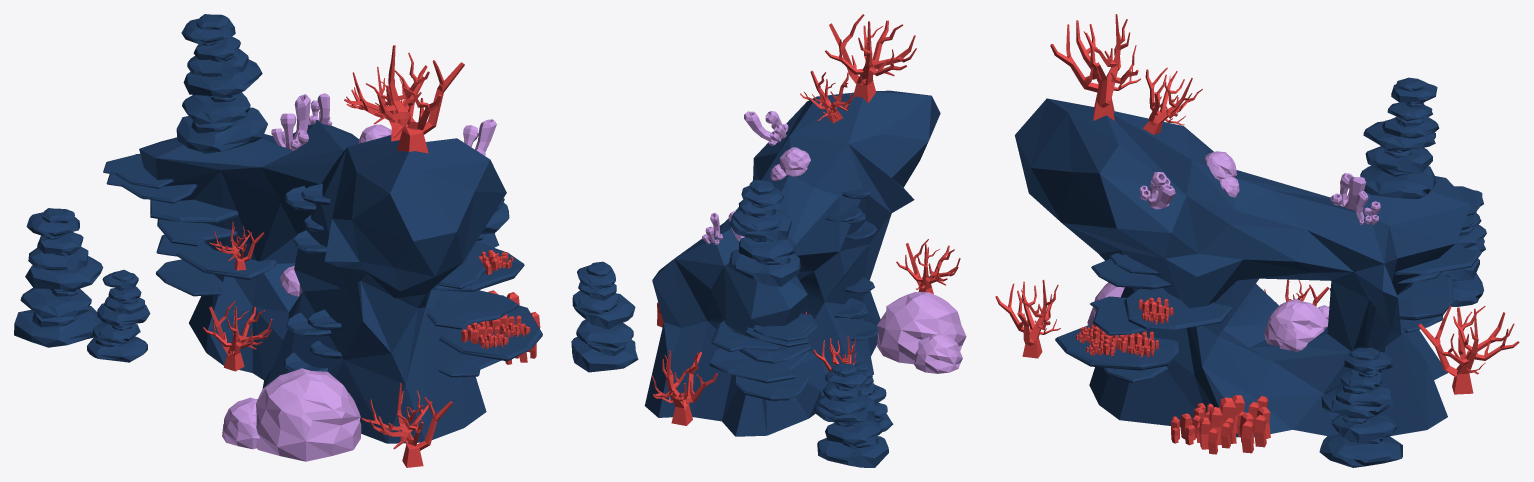
The model's file is environmentRotspartijV1.fbx.
3 renders of one model, left to right at view 1: azimuth 30°, elevation 25°; view 2: azimuth 150°, elevation 25°; view 3: azimuth 270°, elevation 25°, orthographic. The views are drawn at different scales.
Parts seen in each view (by area): view 1: pCube344, pCube361, pCube390, pSphere2, pCube391, pCube359, pCube363, pCube369, pCube362, pCube393, pCube371, pCube388 (+17 smaller); view 2: pCube344, pCube382, pCube361, pCube390, pSphere2, pCube359, pCube369, pCube387, pSphere3, pCube368, pCube393, pCube371 (+8 smaller); view 3: pCube344, pCube382, pCube361, pCube383, pCube359, pCube387, pCube364, pSphere5, pCube362, pCube369, pCube390, pCube393 (+13 smaller).
Part boxes in pixels (x1,y1,x2,y2): pCube344: [139, 120, 506, 443]; pCube361: [176, 14, 267, 153]; pCube390: [14, 208, 103, 347]; pSphere2: [256, 368, 361, 461]; pCube391: [87, 269, 150, 362]; pCube359: [344, 45, 464, 153]; pCube363: [427, 290, 518, 329]; pCube369: [156, 234, 277, 280]; pCube362: [439, 305, 542, 361]; pCube393: [361, 383, 452, 467]; pCube371: [150, 199, 238, 223]; pCube388: [203, 301, 272, 371]; pCube344: [644, 90, 940, 436]; pCube382: [571, 261, 638, 372]; pCube361: [729, 179, 800, 286]; pCube390: [814, 363, 888, 467]; pSphere2: [877, 292, 966, 364]; pCube359: [825, 14, 916, 103]; pCube369: [709, 348, 808, 383]; pCube387: [652, 350, 717, 425]; pSphere3: [914, 333, 962, 373]; pCube368: [734, 371, 809, 400]; pCube393: [896, 239, 960, 294]; pCube371: [711, 320, 809, 352]; pCube344: [1015, 98, 1471, 437]; pCube382: [1319, 347, 1402, 467]; pCube361: [1360, 77, 1439, 198]; pCube383: [1171, 395, 1270, 454]; pCube359: [1050, 14, 1140, 120]; pCube387: [1418, 306, 1519, 394]; pCube364: [1124, 288, 1232, 330]; pSphere5: [1264, 298, 1328, 352]; pCube362: [1055, 325, 1178, 370]; pCube369: [1329, 274, 1453, 320]; pCube390: [1440, 186, 1486, 306]; pCube393: [995, 279, 1060, 358].
Size of the model in its own units: 138 by 118 by 154.
